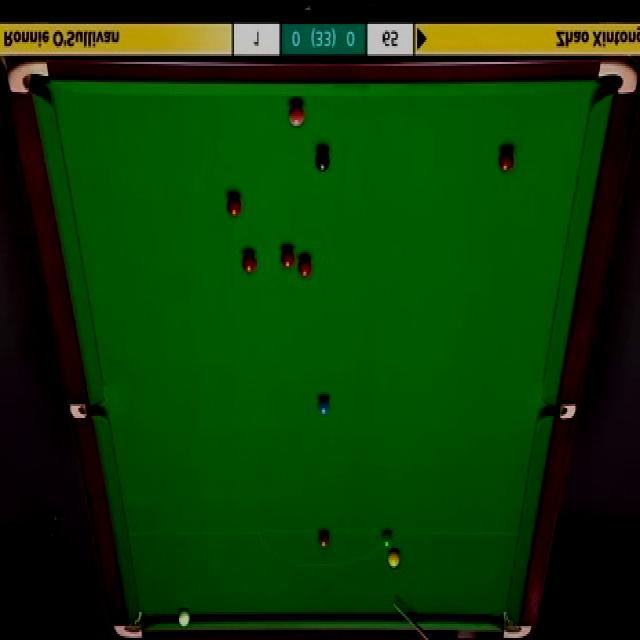pocket: (595, 57, 640, 98), (8, 58, 48, 97), (500, 608, 532, 640), (112, 611, 146, 640), (540, 403, 577, 422), (66, 406, 102, 419)
